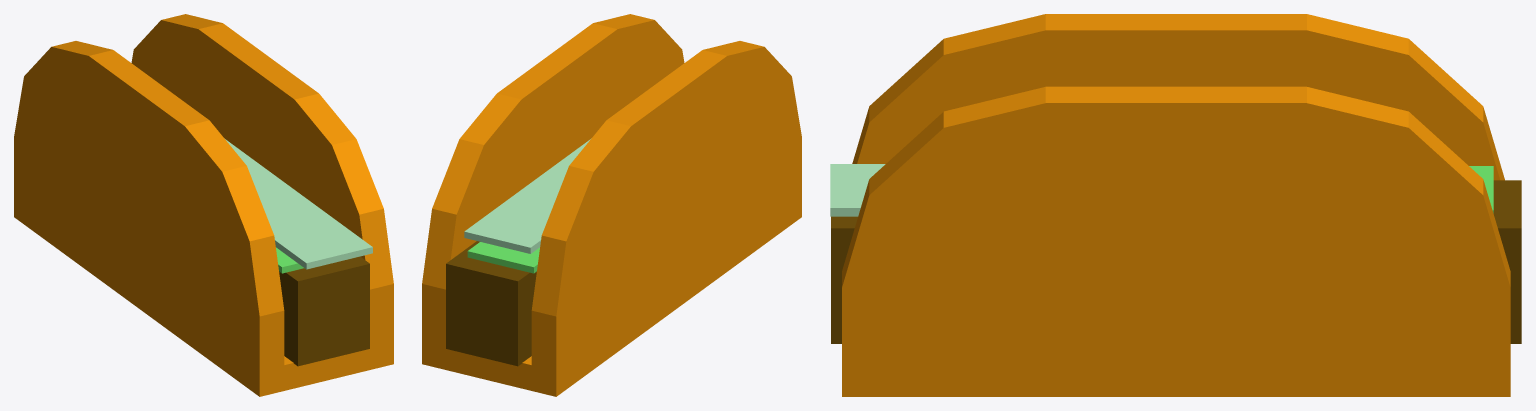
File: Taco.fbx
3 views of the same model, side by side, from view 1: azimuth 30°, elevation 25°; view 2: azimuth 150°, elevation 25°; view 3: azimuth 270°, elevation 25° (orthographic). The views are drawn at different scales.
Visible parts, largest first — view 1: Taco; view 2: Taco; view 3: Taco.
Part boxes in pixels (x1=…): Taco: x1=14, y1=14, x2=393, y2=396; Taco: x1=422, y1=14, x2=801, y2=396; Taco: x1=830, y1=14, x2=1521, y2=396.
Size of the model in its own units: 3.64 by 5.6 by 11.94.
